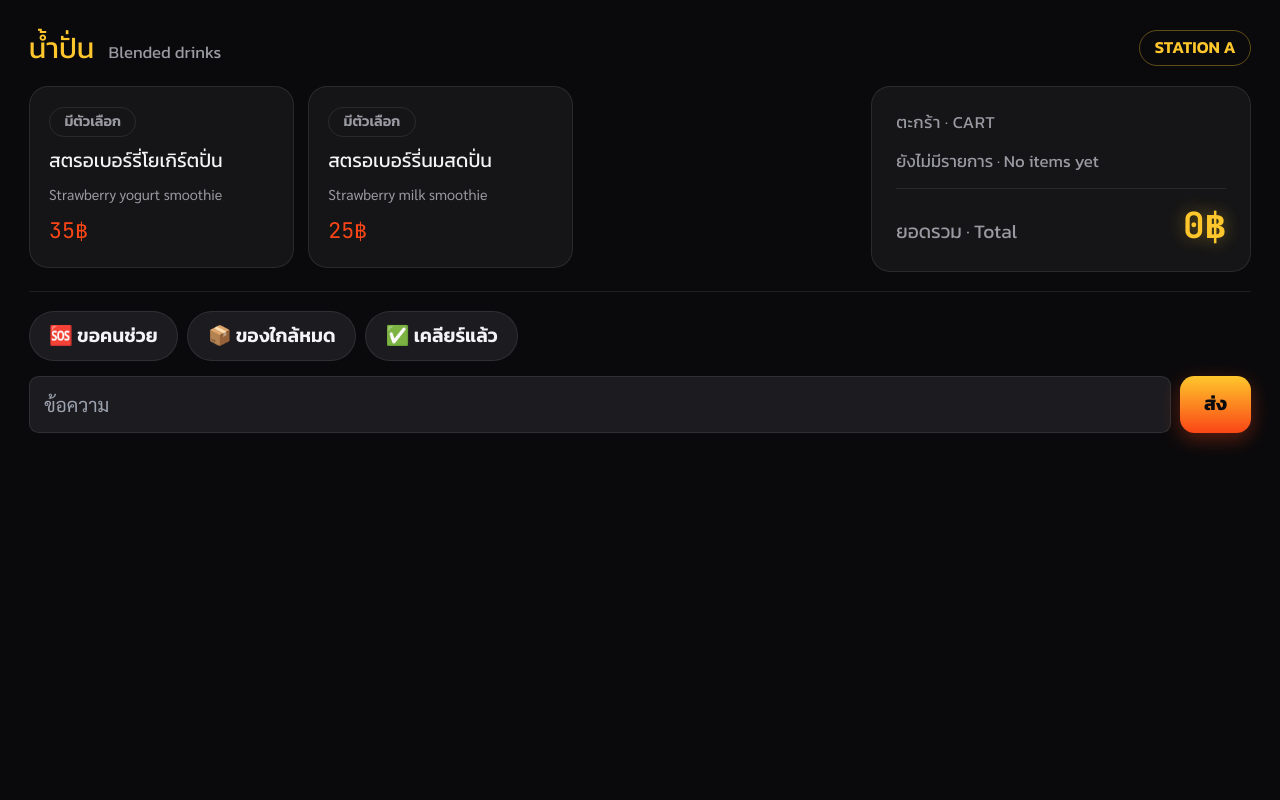
Scenario: adding a drink with a topping opens the picker and prices the option in
The image size is (1280, 800).
Step 1. Click the button "สตรอเบอร์รี่โยเกิร์ตปั่น" → (161,177), box [29,86,294,268]
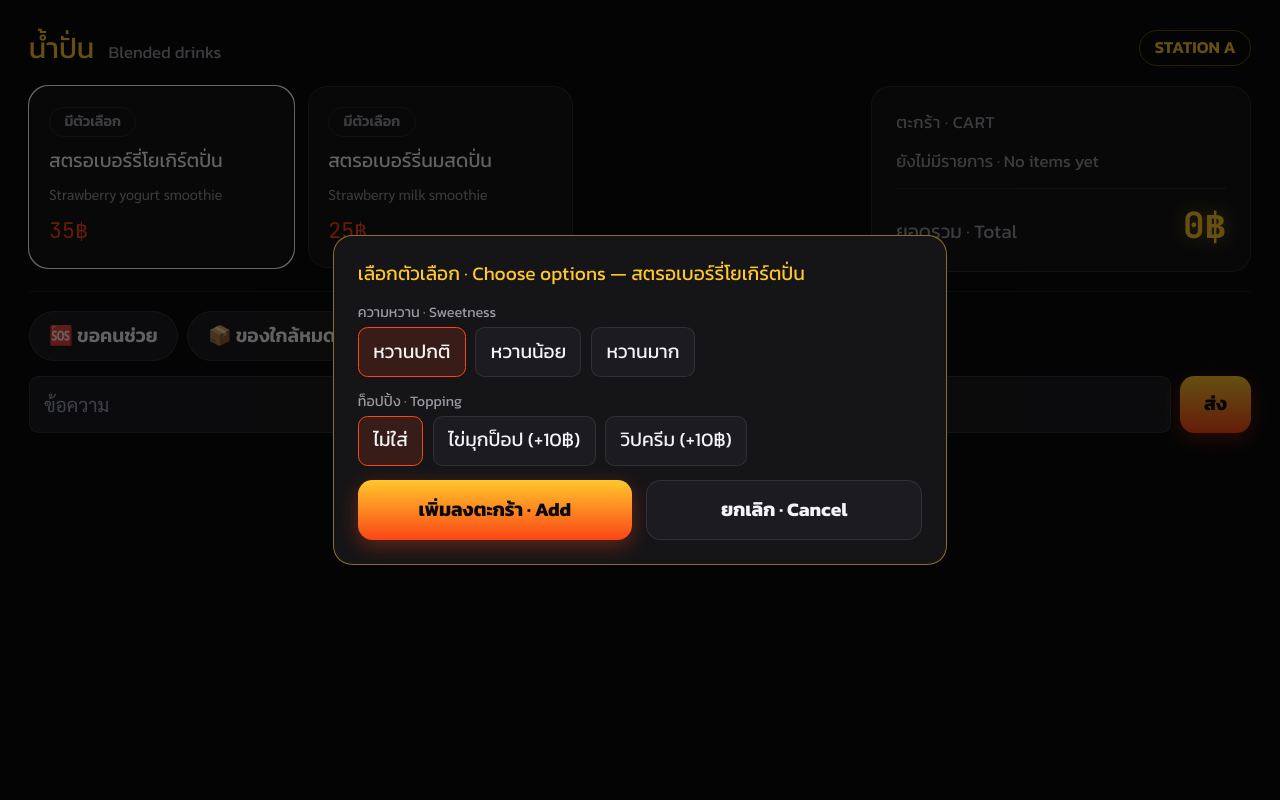
# picker appears
Step 2. Click the button "ไข่มุกป็อป (+10฿)" → (514,441), box [433,416,596,466]
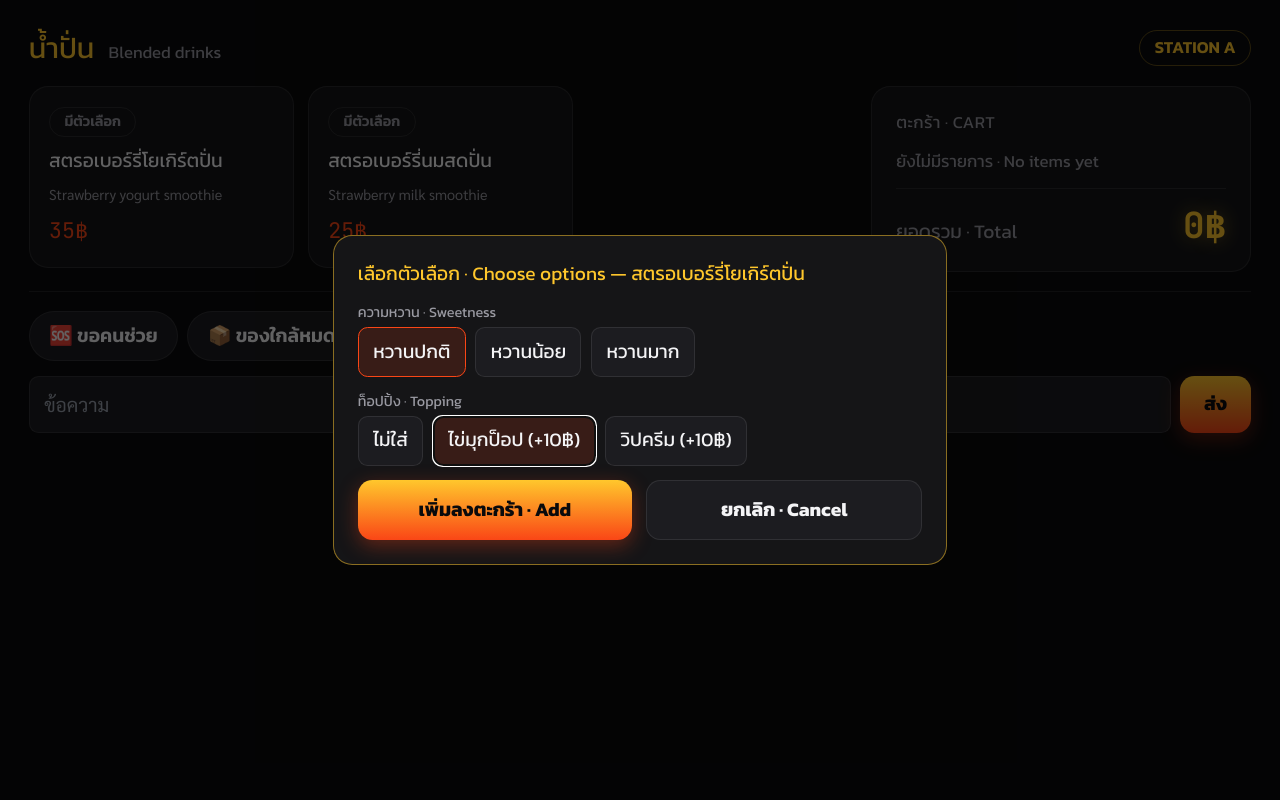
Step 3. Click the button "เพิ่มลงตะกร้า · Add" → (495,510), box [358,480,632,540]
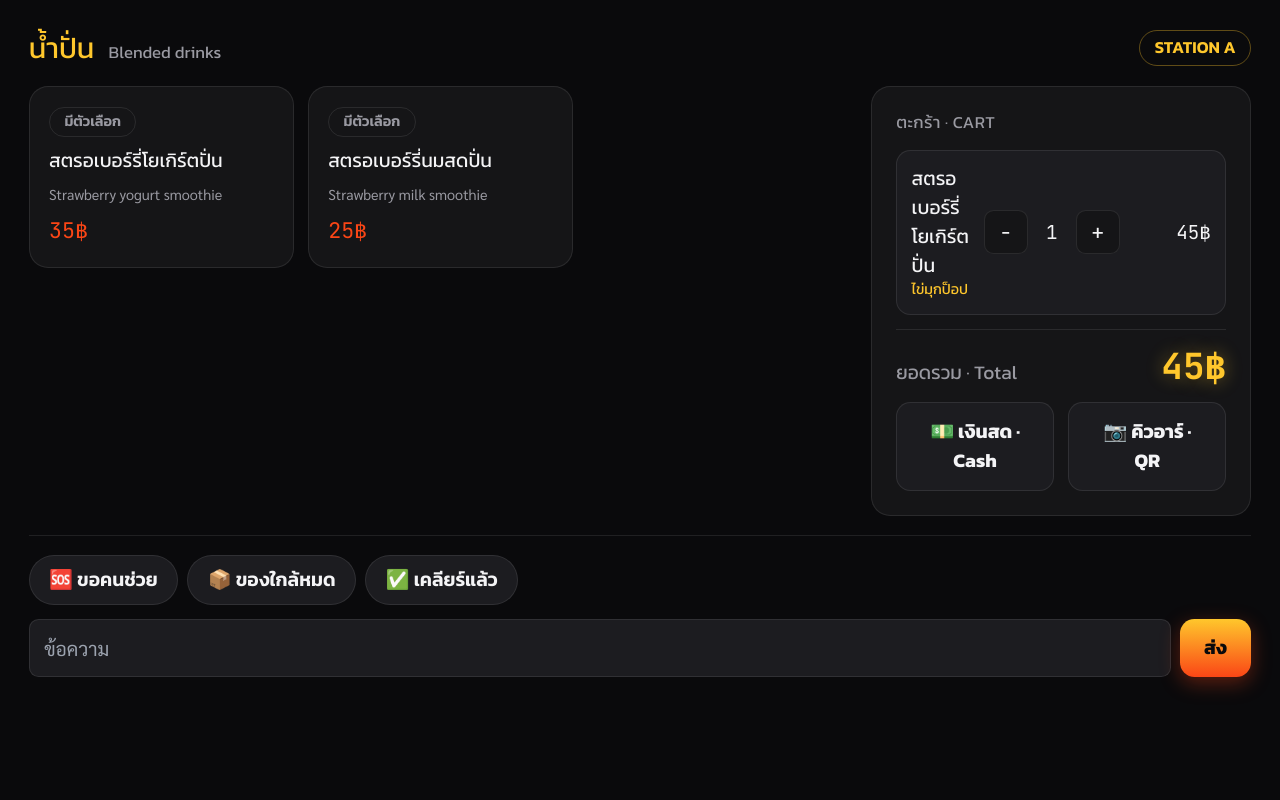
Expected: the text with test id "cart-total" shows "45", [1161,342,1204,390]
Step 4. Click the button "💵 เงินสด · Cash" → (975,446), box [896,402,1054,491]
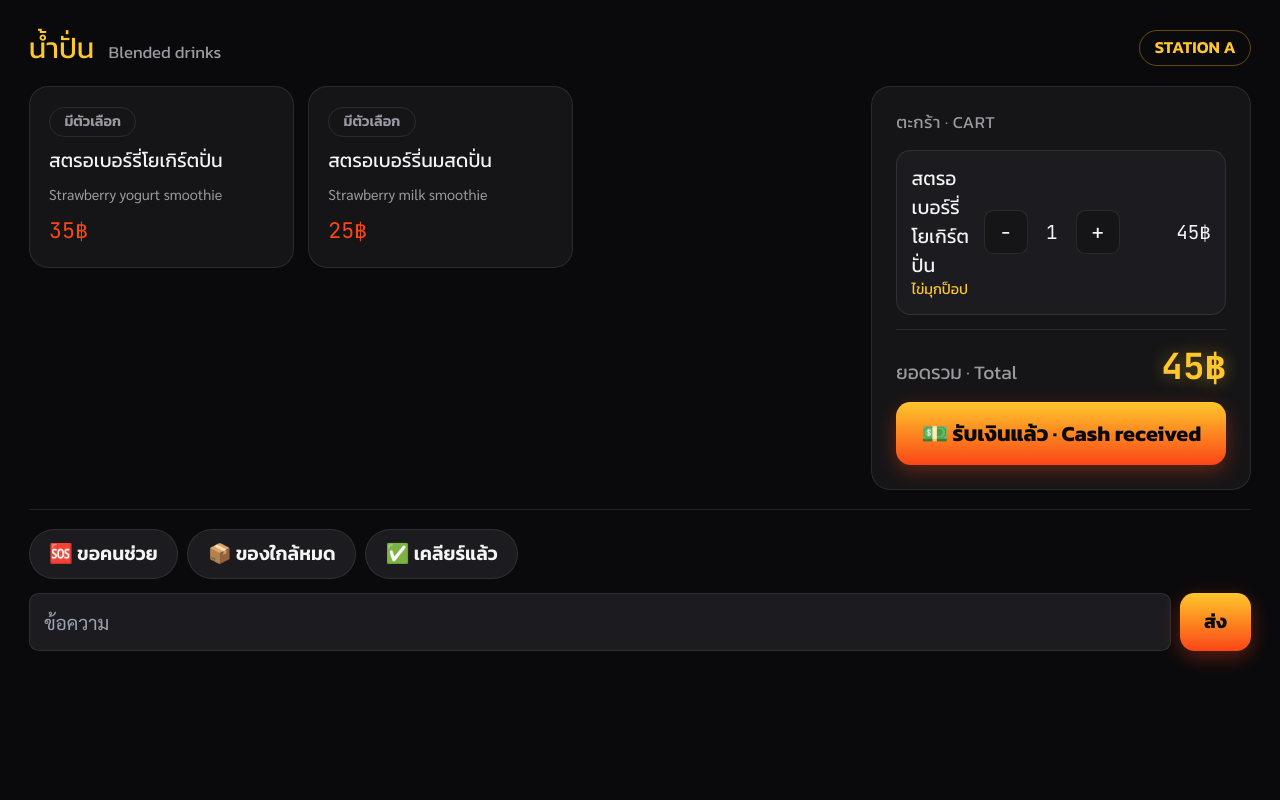
Step 5. Click the button "💵 รับเงินแล้ว · Cash received" → (1061,434), box [896,402,1226,465]
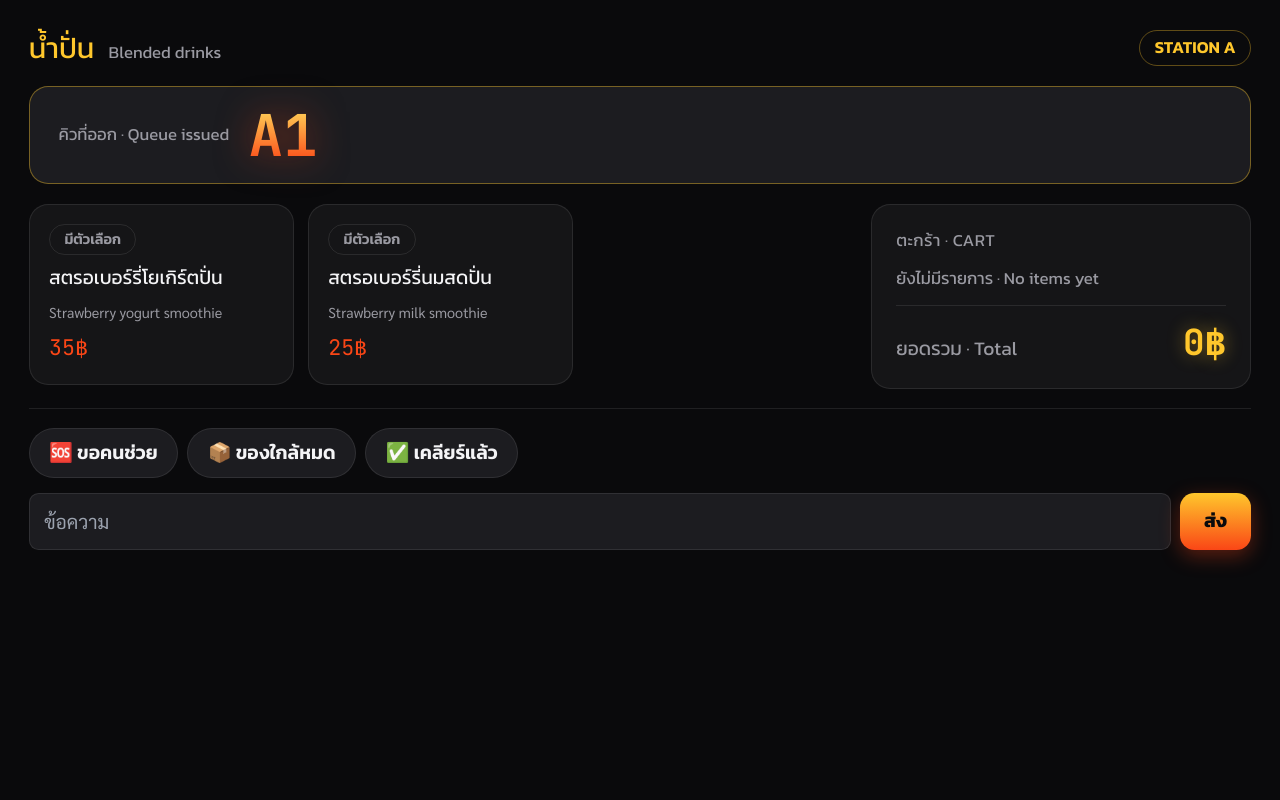
Expected: the element with test id "issued-queue" shows "A1", [248,97,318,173]
